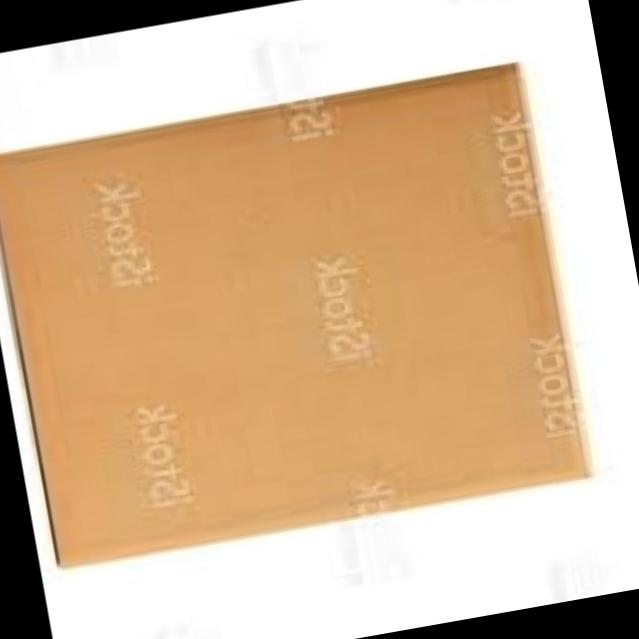cardboard paper: (0, 65, 589, 566)
